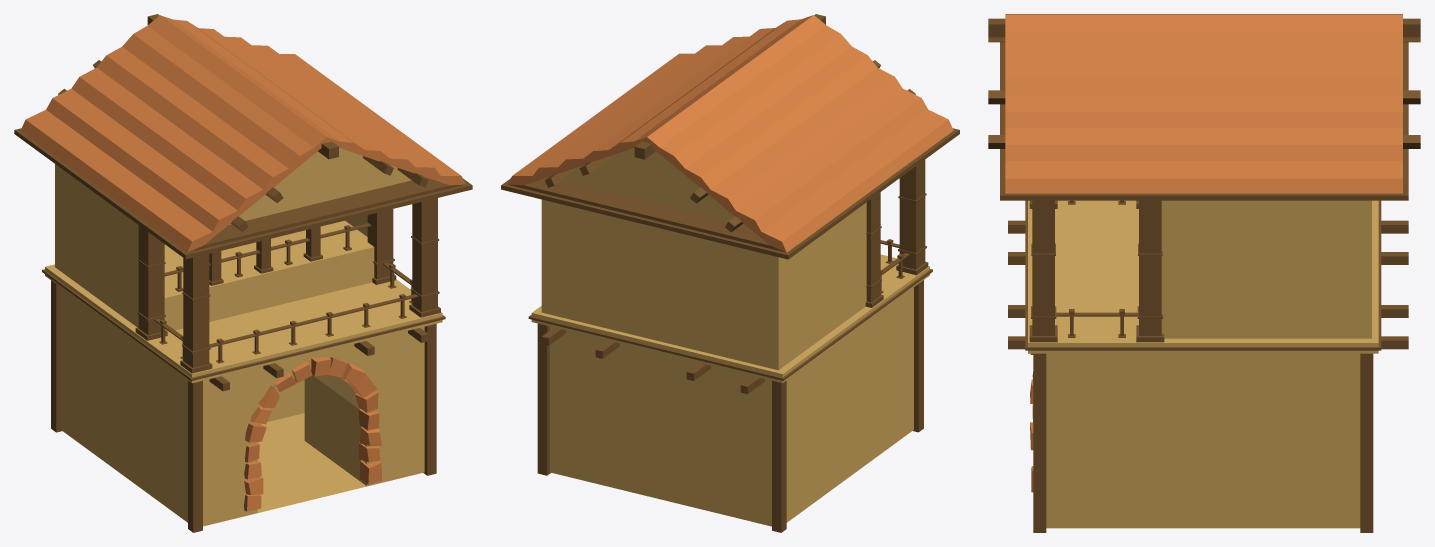
The model's file is Noble_Field.fbx.
3 views of the same model, side by side, from view 1: azimuth 30°, elevation 25°; view 2: azimuth 150°, elevation 25°; view 3: azimuth 270°, elevation 25° (orthographic). The views are drawn at different scales.
Parts seen in each view (by area): view 1: Noble_Field; view 2: Noble_Field; view 3: Noble_Field.
Boxes of the visible parts, x1=… form: Noble_Field: x1=14, y1=14, x2=472, y2=532; Noble_Field: x1=501, y1=14, x2=959, y2=532; Noble_Field: x1=988, y1=14, x2=1420, y2=532.
Bounding box in the file's own units: 1156 × 1443 × 1264.
